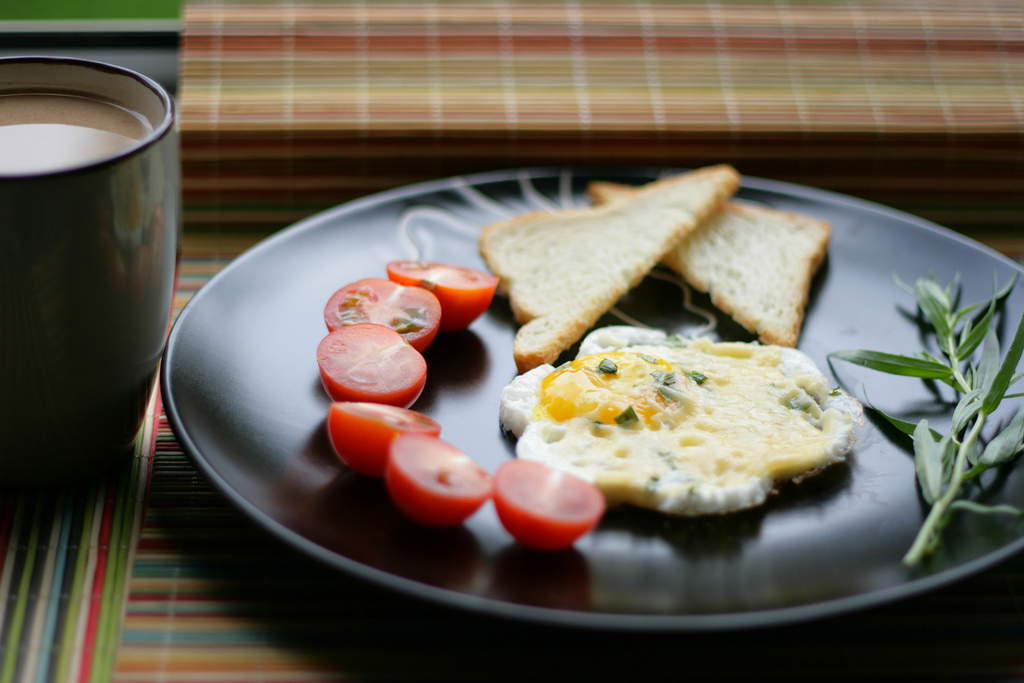fried egg: (519, 327, 844, 504)
slice of bread: (503, 138, 734, 369), (594, 148, 827, 350)
